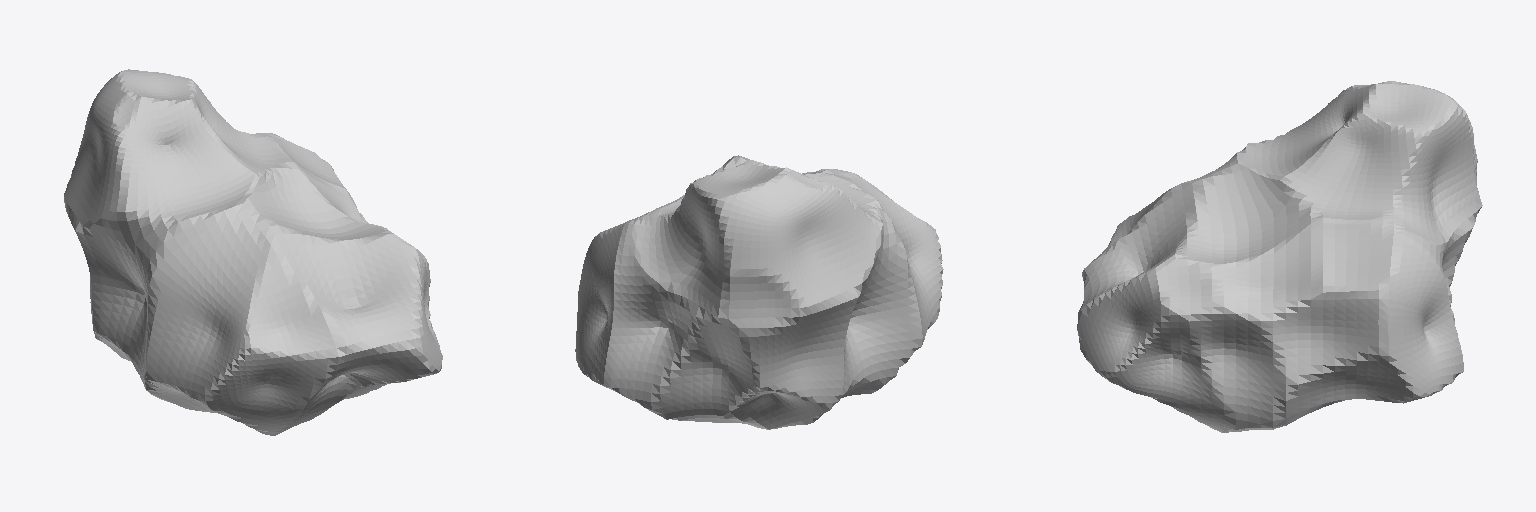
File: scoglio-3.obj
3 views of the same model, side by side, from view 1: azimuth 30°, elevation 25°; view 2: azimuth 150°, elevation 25°; view 3: azimuth 270°, elevation 25° (orthographic).
Parts seen in each view (by area): view 1: Cube; view 2: Cube; view 3: Cube.
Part boxes in pixels (x1,y1,x2,y2): Cube: (64,69,442,435); Cube: (575,155,943,429); Cube: (1077,81,1482,432).
Bounding box in the file's own units: 5.48 × 5.39 × 7.08.